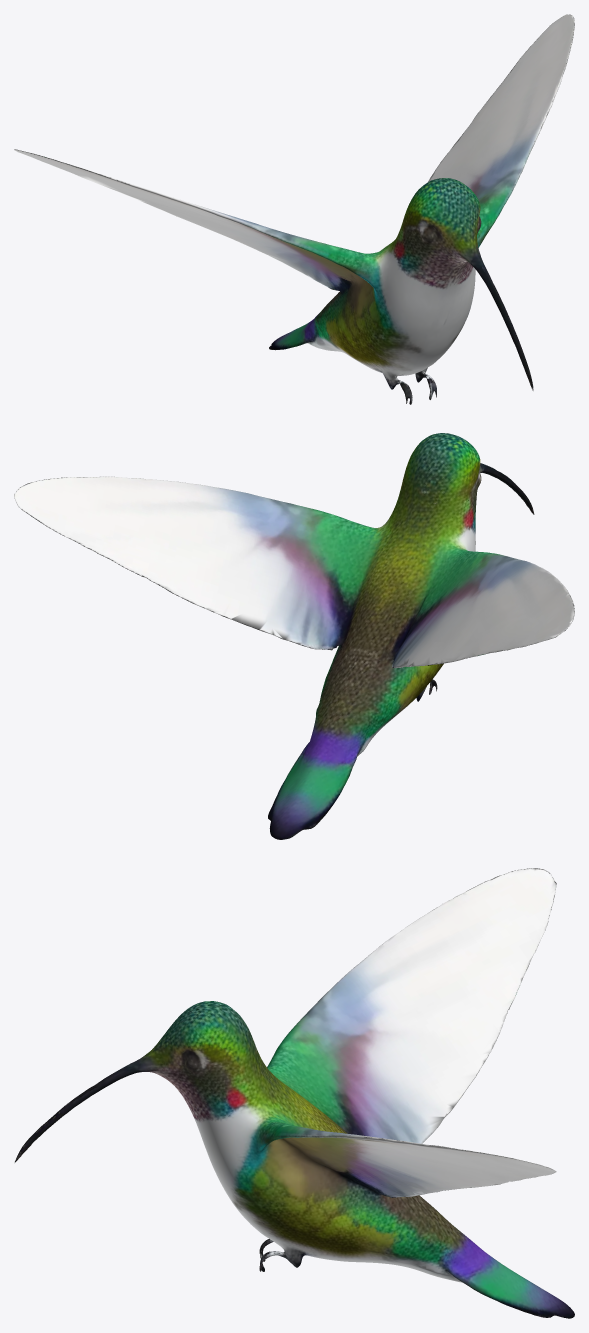
The model's file is hummingbird_hovering.glb.
3 renders of one model, top to bottom at view 1: azimuth 30°, elevation 25°; view 2: azimuth 150°, elevation 25°; view 3: azimuth 270°, elevation 25°, orthographic. The views are drawn at different scales.
Parts seen in each view (by area): view 1: model; view 2: model; view 3: model.
Boxes of the visible parts, x1=… form: model: x1=14, y1=14, x2=574, y2=404; model: x1=14, y1=433, x2=574, y2=839; model: x1=14, y1=868, x2=574, y2=1318.
Size of the model in its own units: 1.9 by 0.9242 by 1.52.
Materials: 1 (1 with a texture image).
